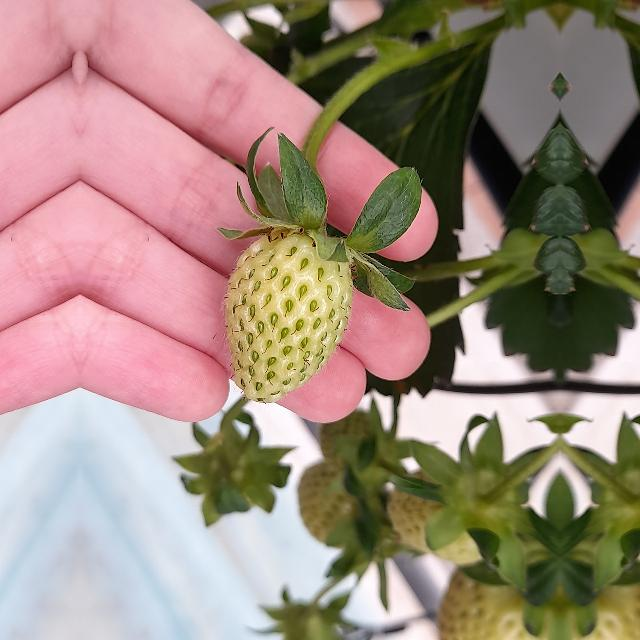Health_25: (224, 230, 352, 402)
